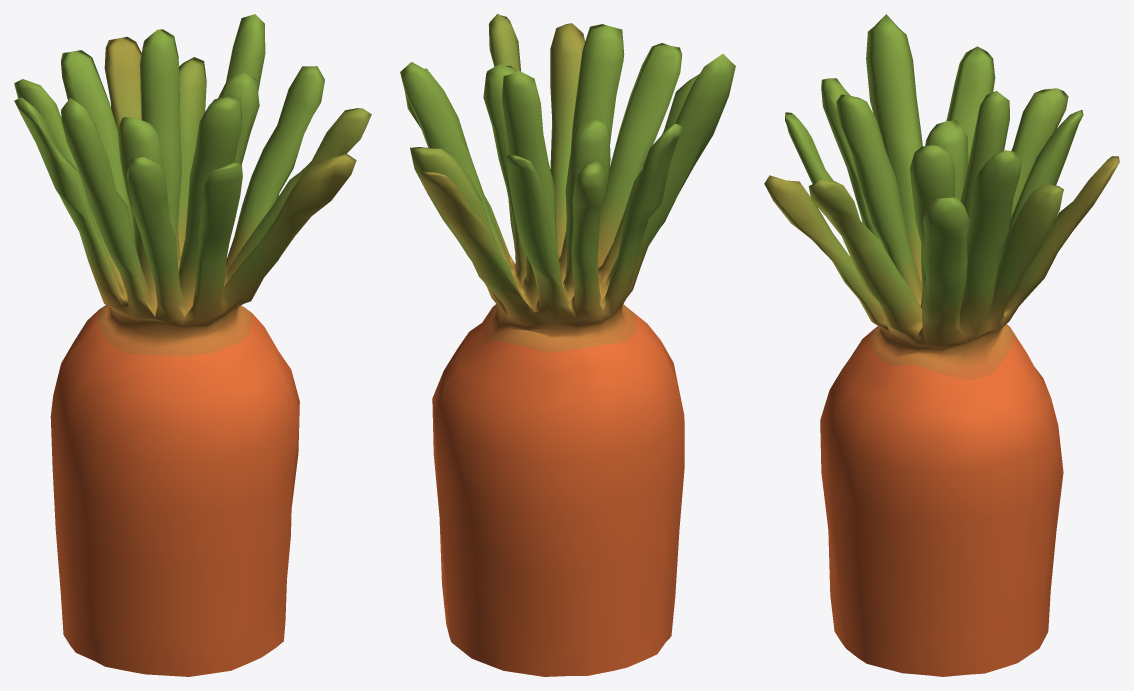
File: carrot1.fbx
The picture shows the model from 3 angles, left to right: view 1: azimuth 30°, elevation 25°; view 2: azimuth 150°, elevation 25°; view 3: azimuth 270°, elevation 25°; orthographic projection. The views are drawn at different scales.
Visible parts, largest first — view 1: Cylinder.001; view 2: Cylinder.001; view 3: Cylinder.001.
Boxes of the visible parts, left/top/right/bottom form: Cylinder.001: left=14, top=14, right=371, bottom=676; Cylinder.001: left=400, top=14, right=735, bottom=676; Cylinder.001: left=764, top=14, right=1119, bottom=676.
Bounding box in the file's own units: 98.51 × 190 × 110.
